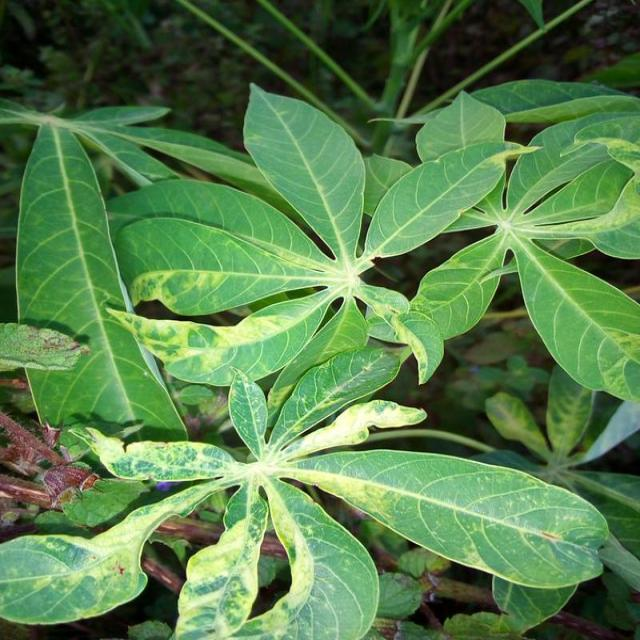cassava leaf: (1, 74, 636, 636), (14, 118, 189, 443)
